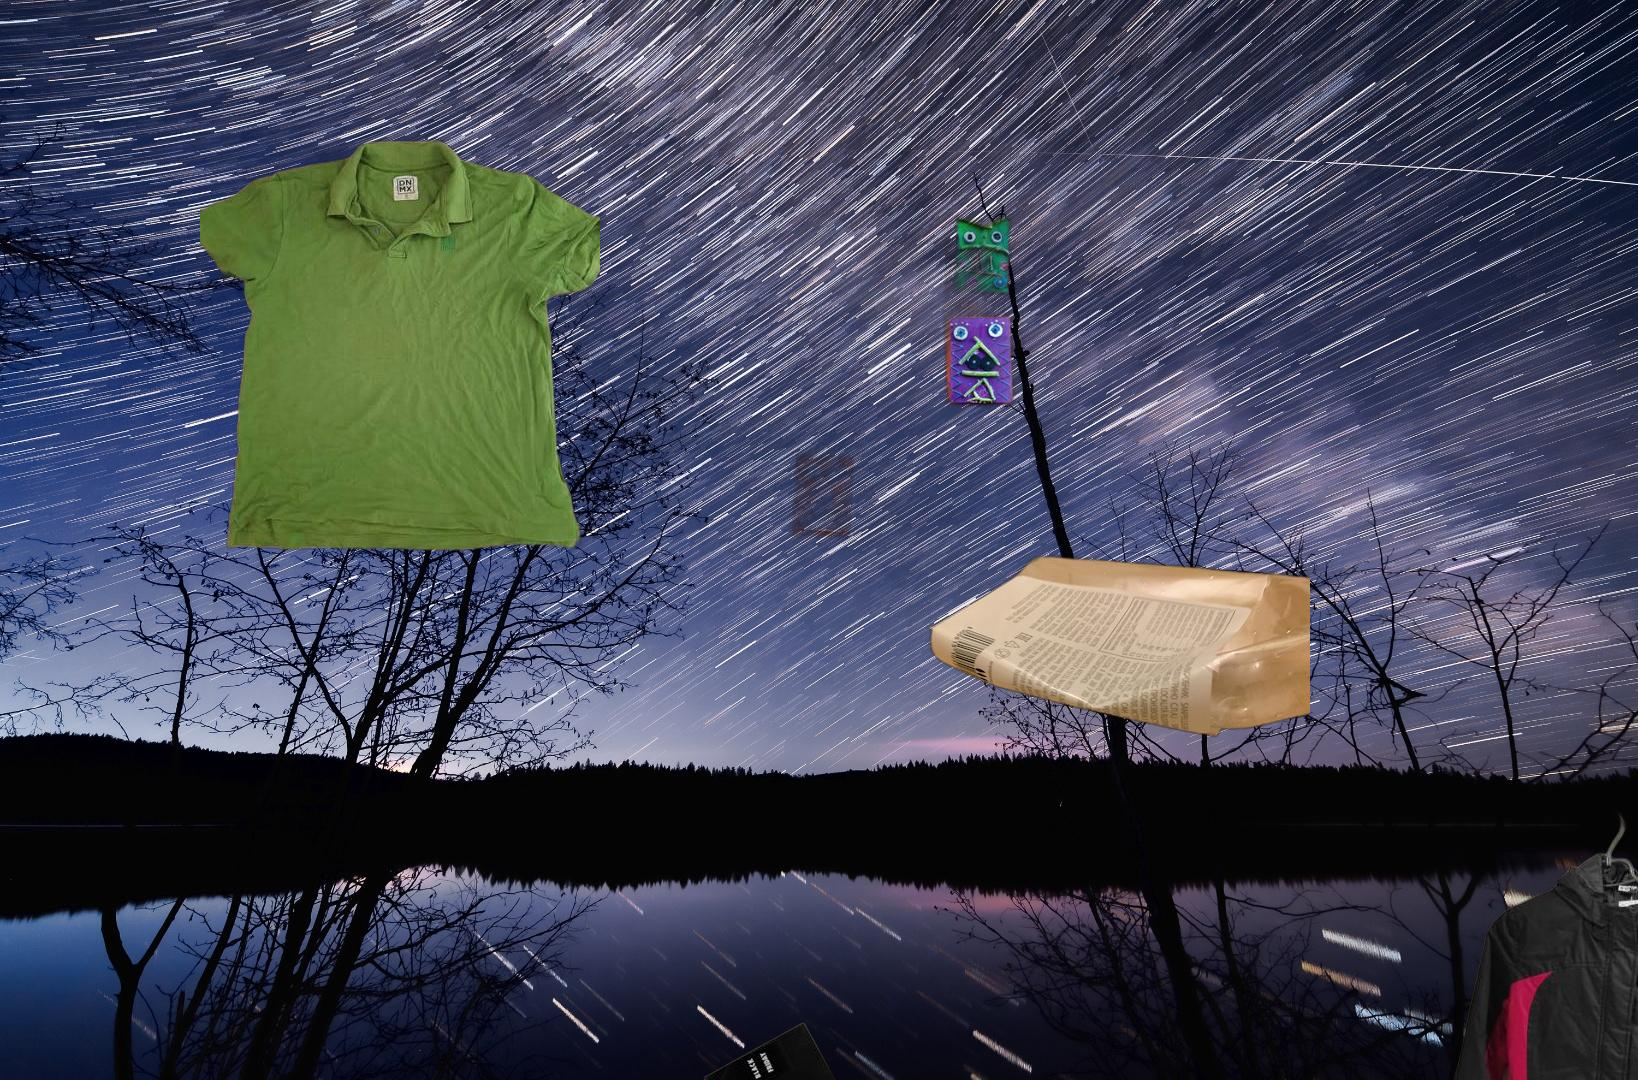clothes: (200, 136, 600, 554), (1428, 802, 1638, 1080)
paper-bag: (654, 1021, 849, 1080)
plastic-bottles: (926, 551, 1310, 740)
trashbox-cardboard: (788, 176, 1025, 542)
